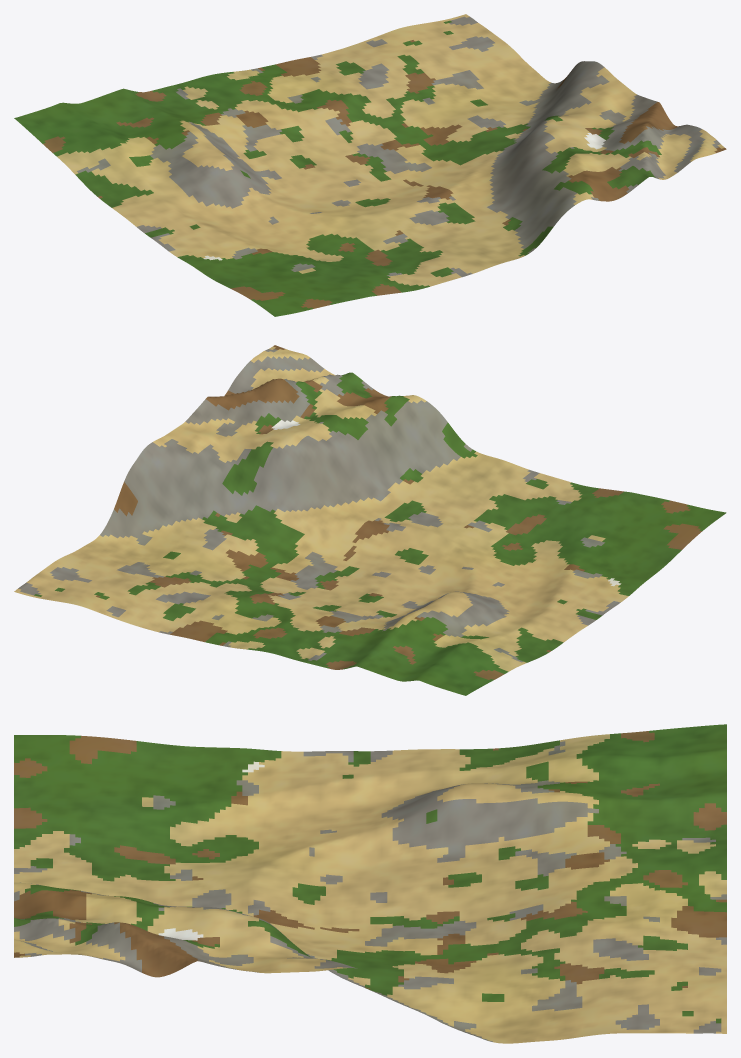
Rendered from chunk_5_6.glb.
The picture shows the model from 3 angles, top to bottom: view 1: azimuth 30°, elevation 25°; view 2: azimuth 150°, elevation 25°; view 3: azimuth 270°, elevation 25°; orthographic projection. The views are drawn at different scales.
Parts seen in each view (by area): view 1: Surface_Sand, Surface_Grass, Surface_Gravel, Surface_Dirt; view 2: Surface_Sand, Surface_Grass, Surface_Gravel, Surface_Dirt; view 3: Surface_Sand, Surface_Grass, Surface_Gravel, Surface_Dirt.
Part boxes in pixels (box(x1,y1,x2,y2)): Surface_Sand: box(57, 14, 724, 286); Surface_Grass: box(14, 20, 661, 316); Surface_Gravel: box(77, 16, 720, 277); Surface_Dirt: box(43, 40, 726, 308); Surface_Sand: box(14, 346, 628, 671); Surface_Grass: box(34, 372, 726, 695); Surface_Gravel: box(18, 349, 620, 662); Surface_Dirt: box(96, 345, 701, 679); Surface_Sand: box(14, 734, 726, 1043); Surface_Grass: box(14, 724, 726, 1023); Surface_Gravel: box(14, 741, 726, 1041); Surface_Dirt: box(14, 731, 726, 989).
Bounding box in the file's own units: 256 × 44.14 × 256.
